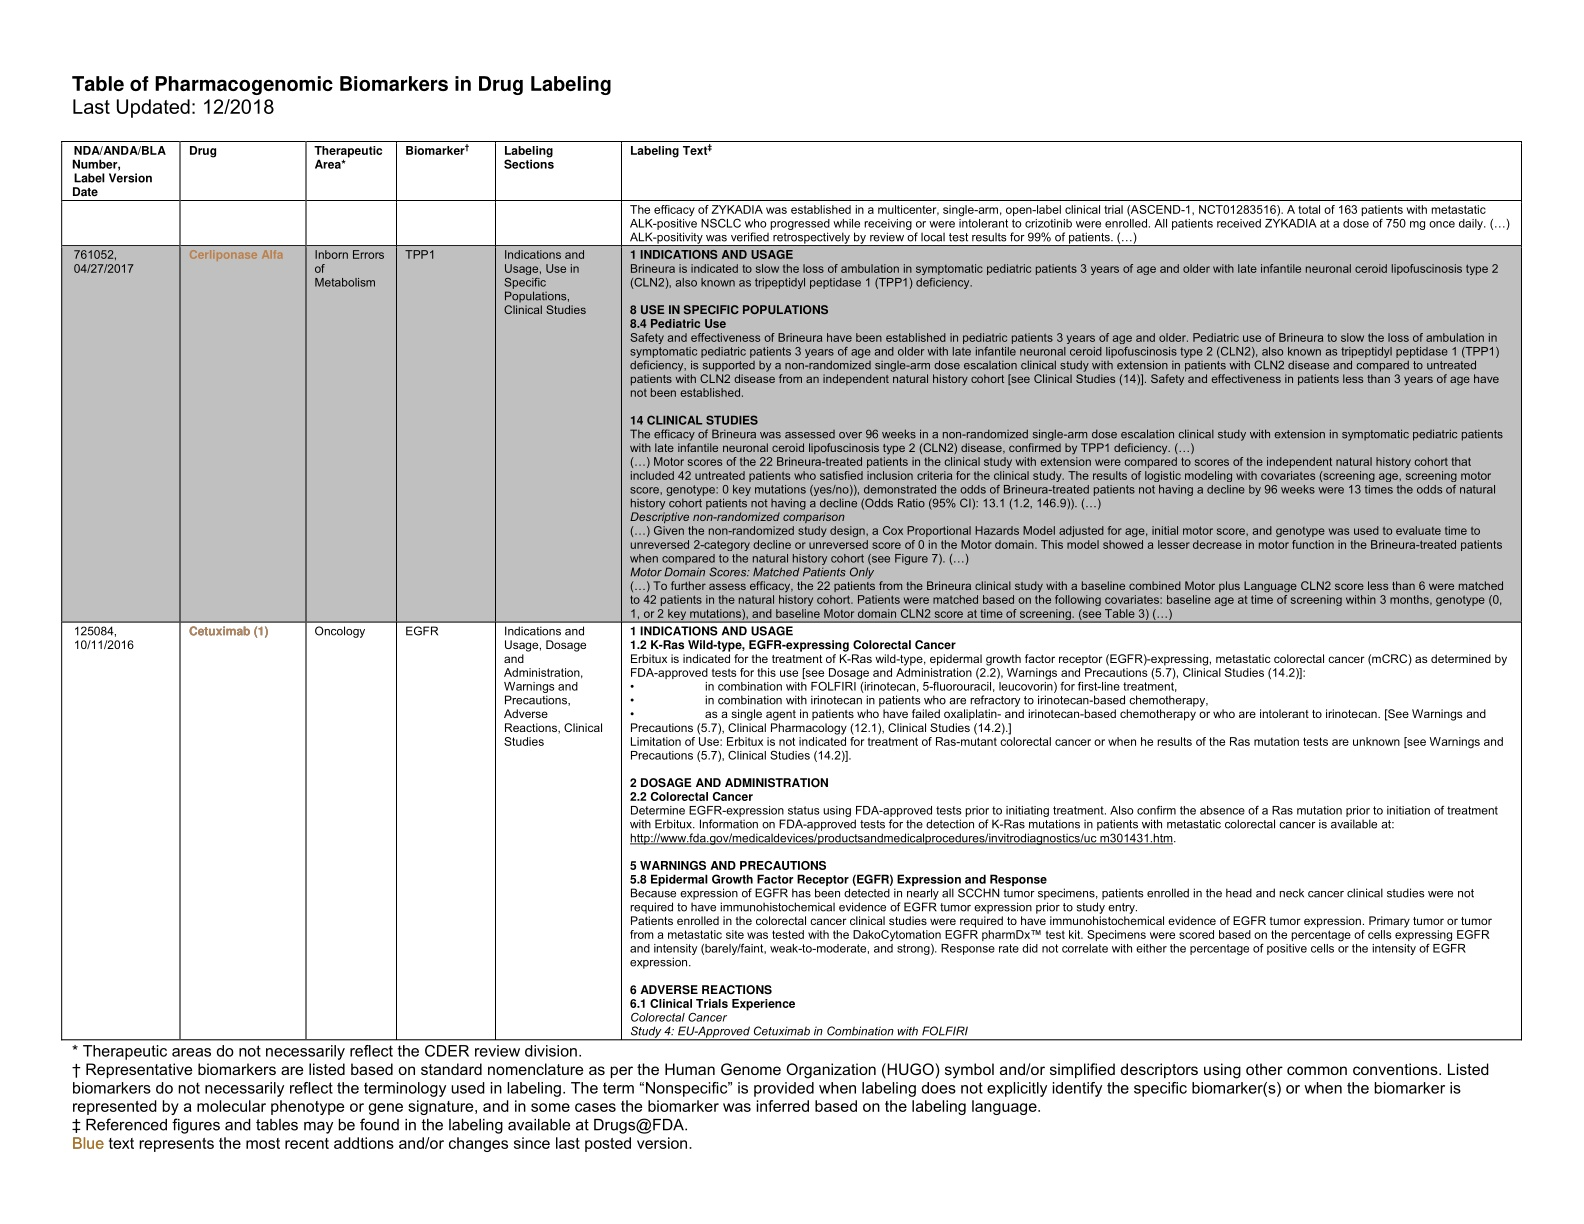full_lined: (60, 140, 1524, 1041)
